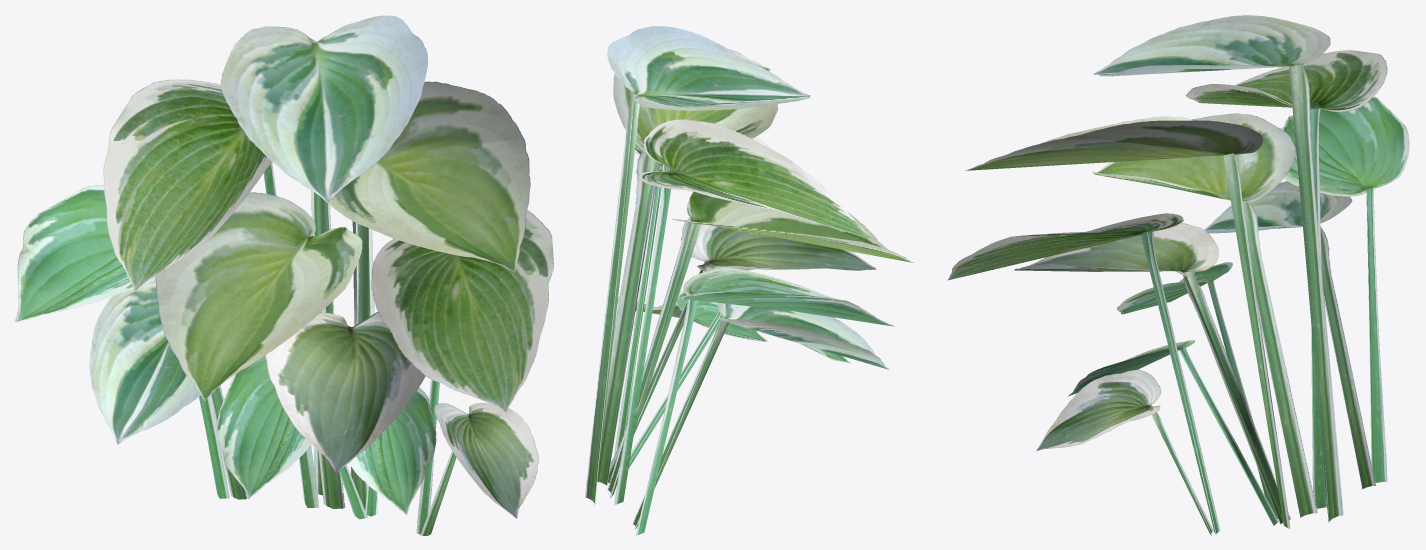
Rendered from plant_small_wg_00_i-corner01.fbx.
3 views of the same model, side by side, from view 1: azimuth 30°, elevation 25°; view 2: azimuth 150°, elevation 25°; view 3: azimuth 270°, elevation 25° (orthographic). The views are drawn at different scales.
Visible parts, largest first — view 1: plant_small_wg_00_i-corner01; view 2: plant_small_wg_00_i-corner01; view 3: plant_small_wg_00_i-corner01.
Boxes of the visible parts, x1,y1,x2,y2 form: plant_small_wg_00_i-corner01: [15, 15, 553, 535]; plant_small_wg_00_i-corner01: [585, 26, 913, 535]; plant_small_wg_00_i-corner01: [948, 15, 1409, 535].
Size of the model in its own units: 40.7 by 46.86 by 41.76.
Materials: 1 (1 with a texture image).
